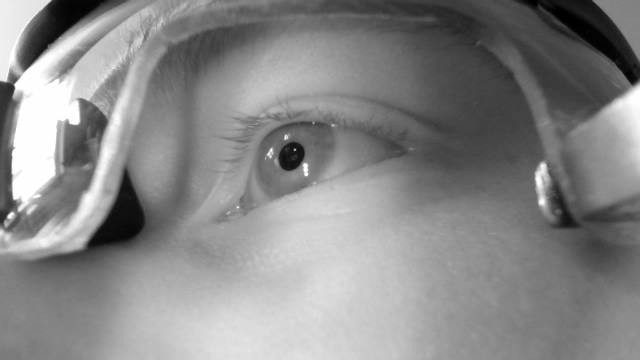pupil: (278, 141, 305, 172)
